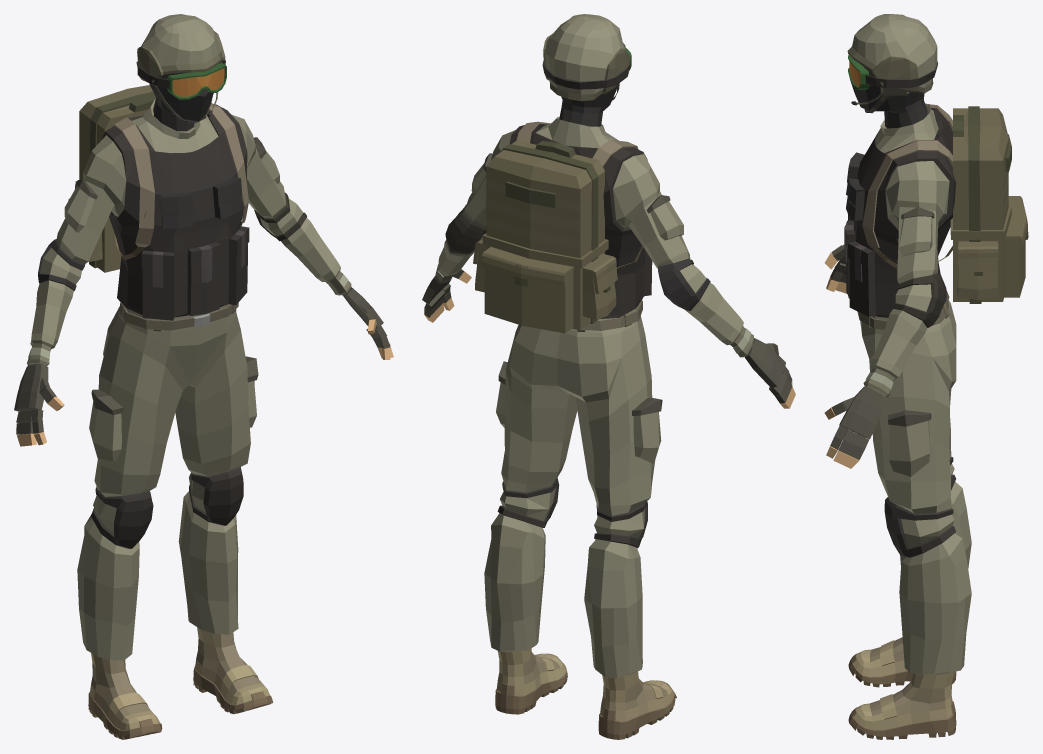
The model's file is enemy_shooter.glb.
3 renders of one model, left to right at view 1: azimuth 30°, elevation 25°; view 2: azimuth 150°, elevation 25°; view 3: azimuth 270°, elevation 25°, orthographic.
Visible parts, largest first — view 1: Cube.011; view 2: Cube.011; view 3: Cube.011.
Boxes of the visible parts, left/top/right/bottom form: Cube.011: left=14, top=14, right=393, bottom=739; Cube.011: left=422, top=14, right=795, bottom=739; Cube.011: left=824, top=14, right=1028, bottom=739.
Size of the model in its own units: 1.06 by 1.92 by 0.5188.
Materials: 1 (1 with a texture image).
